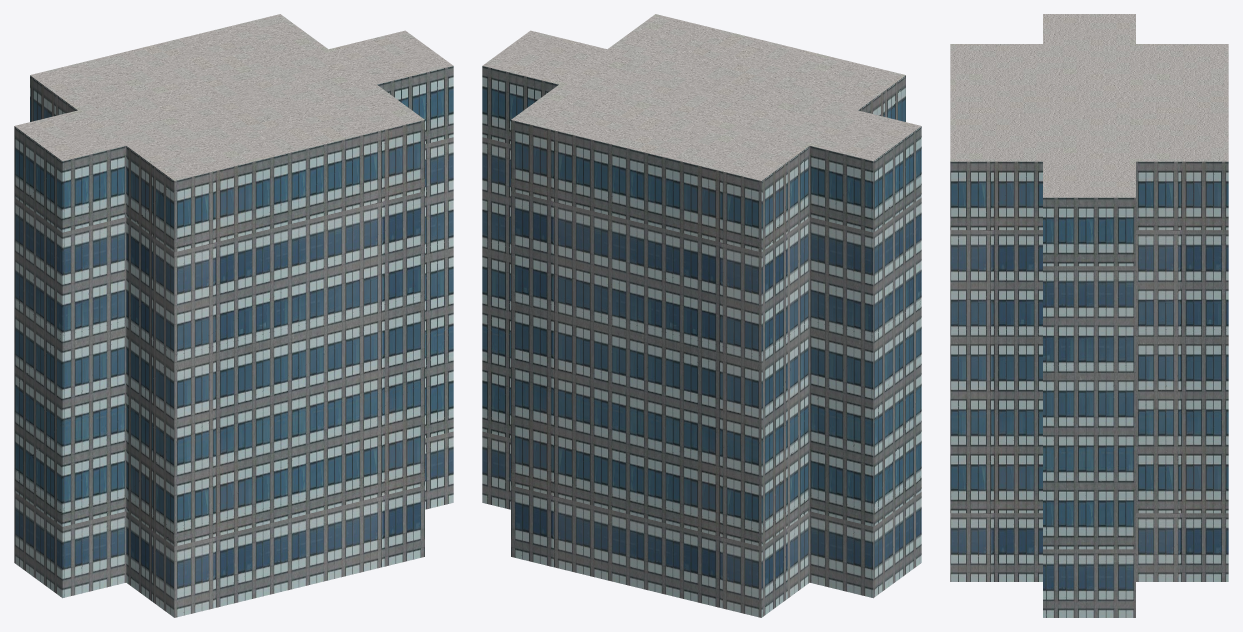
Rendered from building_009_001.glb.
The picture shows the model from 3 angles, left to right: view 1: azimuth 30°, elevation 25°; view 2: azimuth 150°, elevation 25°; view 3: azimuth 270°, elevation 25°; orthographic projection. The views are drawn at different scales.
Parts seen in each view (by area): view 1: building_009.001; view 2: building_009.001; view 3: building_009.001.
Part boxes in pixels (x1,y1,x2,y2): building_009.001: (14, 14, 453, 617); building_009.001: (482, 14, 921, 617); building_009.001: (950, 14, 1228, 617).
Size of the model in its own units: 1873 by 2000 by 1200.
2 materials, 2 textured.
